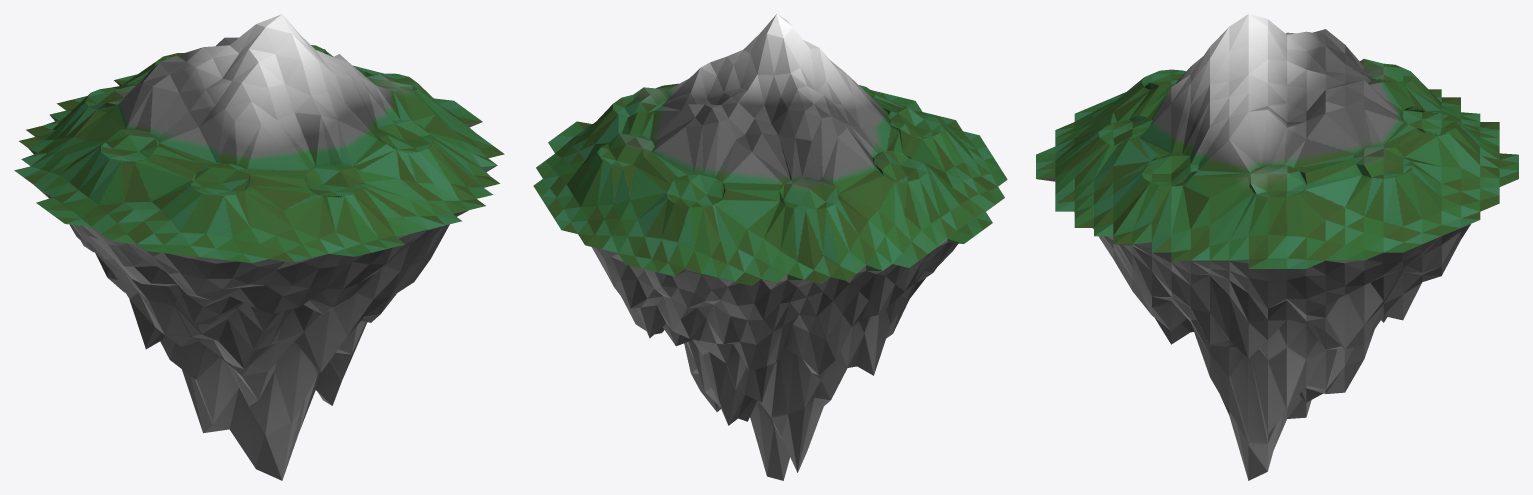
The model's file is Island.glb.
3 renders of one model, left to right at view 1: azimuth 30°, elevation 25°; view 2: azimuth 150°, elevation 25°; view 3: azimuth 270°, elevation 25°, orthographic.
Parts seen in each view (by area): view 1: Mountain.001; view 2: Mountain.001; view 3: Mountain.001.
Part boxes in pixels (<box>): Mountain.001: <box>14,14,504,480</box>; Mountain.001: <box>533,14,1007,480</box>; Mountain.001: <box>1036,14,1518,480</box>.
Size of the model in its own units: 4.03 by 4.3 by 4.03.
Materials: 1 (1 with a texture image).
